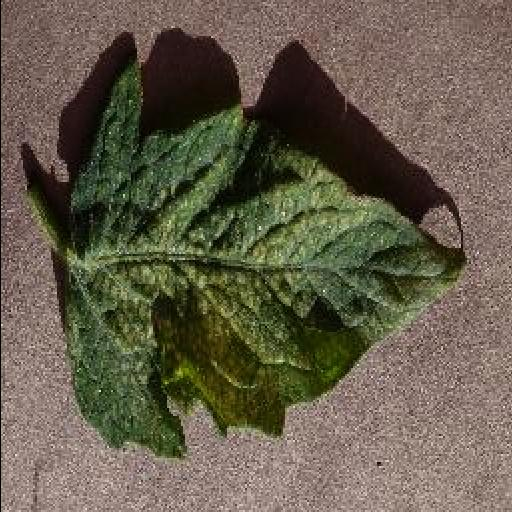disease_tomato: (60, 60, 468, 462)
